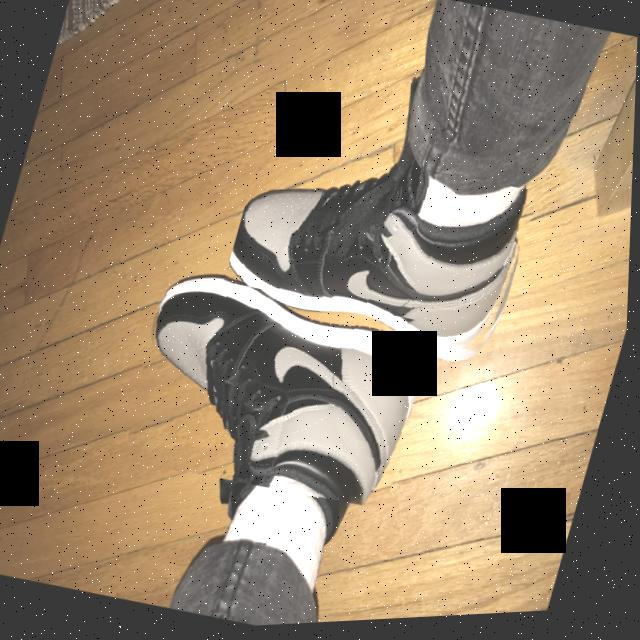shoe: (112, 260, 441, 527), (216, 129, 544, 379)
